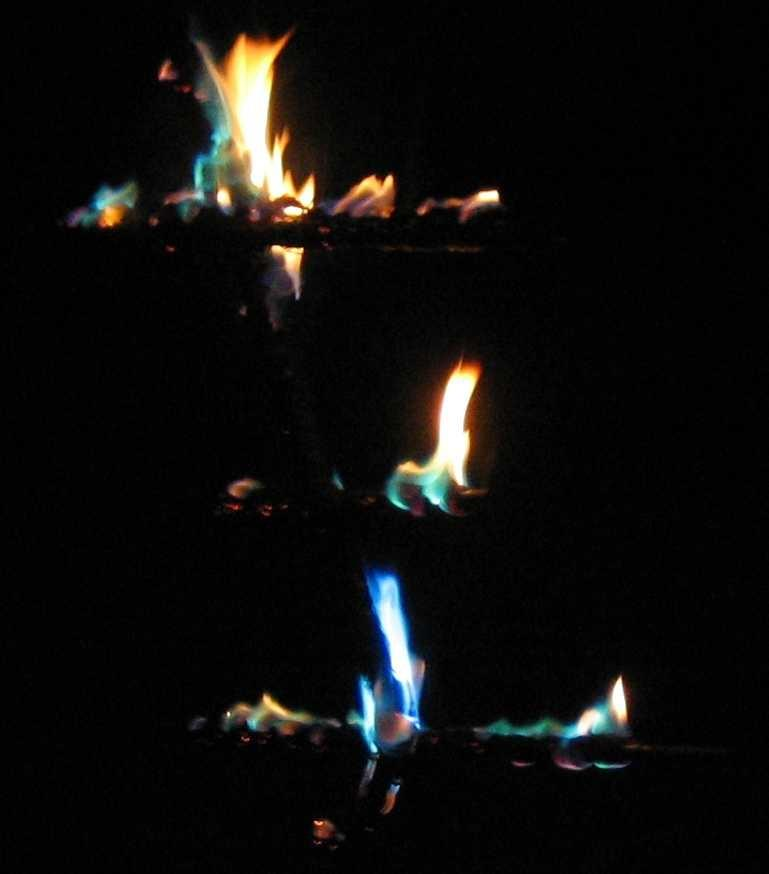fire: (202, 43, 282, 200), (430, 368, 480, 485), (380, 585, 415, 740), (580, 683, 640, 732)
